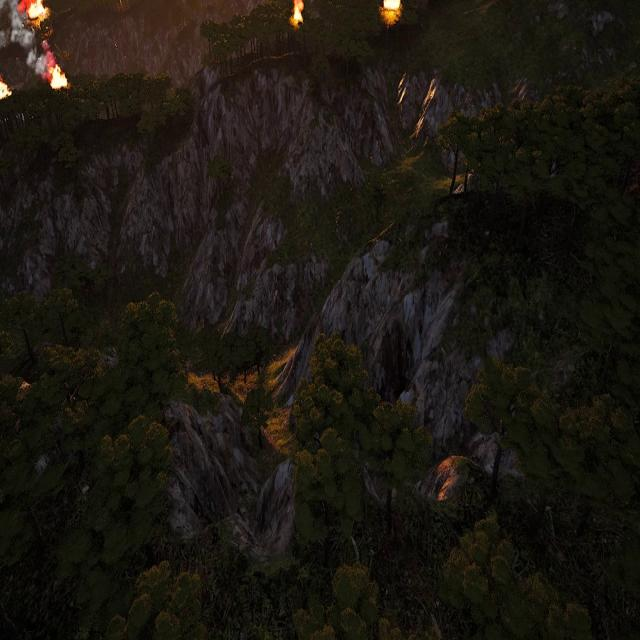fire: (51, 64, 70, 89), (27, 0, 48, 20), (381, 0, 402, 17), (289, 0, 303, 23), (0, 79, 10, 102)
smoke: (0, 0, 51, 77)
